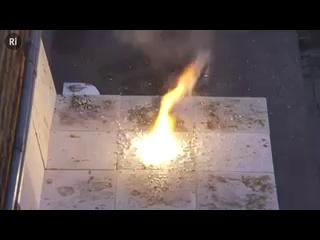Fire: (128, 75, 190, 171)
